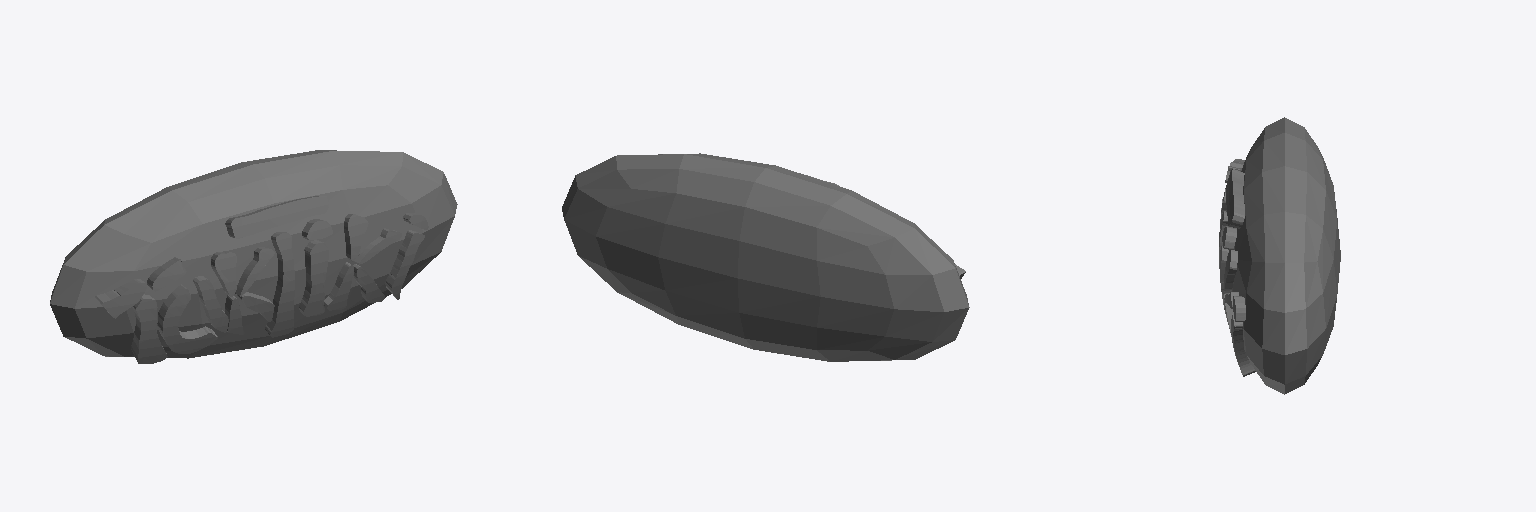
Rendered from title_taktiki_obj.obj.
3 views of the same model, side by side, from view 1: azimuth 30°, elevation 25°; view 2: azimuth 150°, elevation 25°; view 3: azimuth 270°, elevation 25° (orthographic).
Visible parts, largest first — view 1: title_taktiki_obj:pCube1, polySurface1; view 2: title_taktiki_obj:pCube1; view 3: title_taktiki_obj:pCube1, polySurface1.
Part boxes in pixels (x1,y1,x2,y2): title_taktiki_obj:pCube1: (50,150,457,358); polySurface1: (95,196,428,363); title_taktiki_obj:pCube1: (562,153,969,361); title_taktiki_obj:pCube1: (1232,117,1340,394); polySurface1: (1219,159,1255,376).
Size of the model in its own units: 48.88 by 20.59 by 12.69.